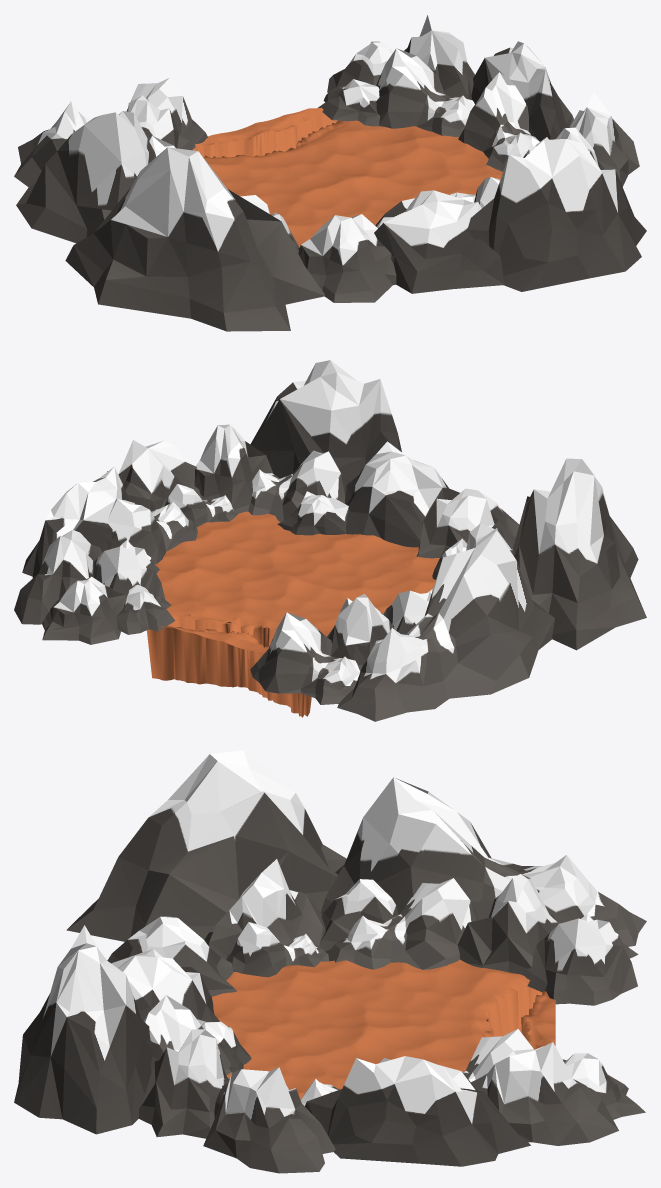
File: world_san.fbx
3 renders of one model, top to bottom at view 1: azimuth 30°, elevation 25°; view 2: azimuth 150°, elevation 25°; view 3: azimuth 270°, elevation 25°, orthographic. The views are drawn at different scales.
Visible parts, largest first — view 1: san021, map, san022, san020, san4, san011, san018, san009, san017, san2, san005, san016 (+4 smaller); view 2: map, san020, san021, san022, san4, san1, san017, san019, san3, san2, san011, san010 (+8 smaller); view 3: map, san021, san022, san020, san017, san005, san2, san007, san1, san019, san006, san008 (+8 smaller).
Part boxes in pixels (bbox=[...]): san021: bbox=[65, 147, 324, 331]; map: bbox=[193, 108, 502, 247]; san022: bbox=[467, 139, 646, 291]; san020: bbox=[14, 101, 156, 243]; san4: bbox=[374, 190, 504, 293]; san011: bbox=[298, 214, 396, 302]; san018: bbox=[376, 48, 474, 136]; san009: bbox=[458, 72, 539, 171]; san017: bbox=[471, 41, 573, 141]; san2: bbox=[404, 15, 474, 99]; san005: bbox=[555, 92, 639, 186]; san016: bbox=[318, 79, 380, 126]; map: bbox=[146, 511, 439, 717]; san020: bbox=[337, 531, 554, 721]; san021: bbox=[512, 458, 646, 650]; san022: bbox=[250, 360, 401, 485]; san4: bbox=[345, 441, 459, 547]; san1: bbox=[250, 612, 360, 704]; san017: bbox=[22, 466, 155, 578]; san019: bbox=[194, 424, 273, 513]; san3: bbox=[42, 576, 126, 644]; san2: bbox=[14, 530, 102, 624]; san011: bbox=[416, 488, 519, 558]; san010: bbox=[248, 450, 346, 522]; map: bbox=[212, 959, 555, 1099]; san021: bbox=[66, 750, 346, 941]; san022: bbox=[14, 925, 152, 1134]; san020: bbox=[320, 777, 646, 946]; san017: bbox=[304, 1056, 530, 1166]; san005: bbox=[203, 1067, 335, 1173]; san2: bbox=[471, 1042, 618, 1145]; san007: bbox=[325, 878, 477, 969]; san1: bbox=[520, 914, 638, 1005]; san019: bbox=[138, 1029, 229, 1138]; san006: bbox=[457, 874, 557, 973]; san008: bbox=[204, 859, 325, 959].
Size of the model in its own units: 6370 by 2111 by 5530.
Materials: 5 (5 with a texture image).
